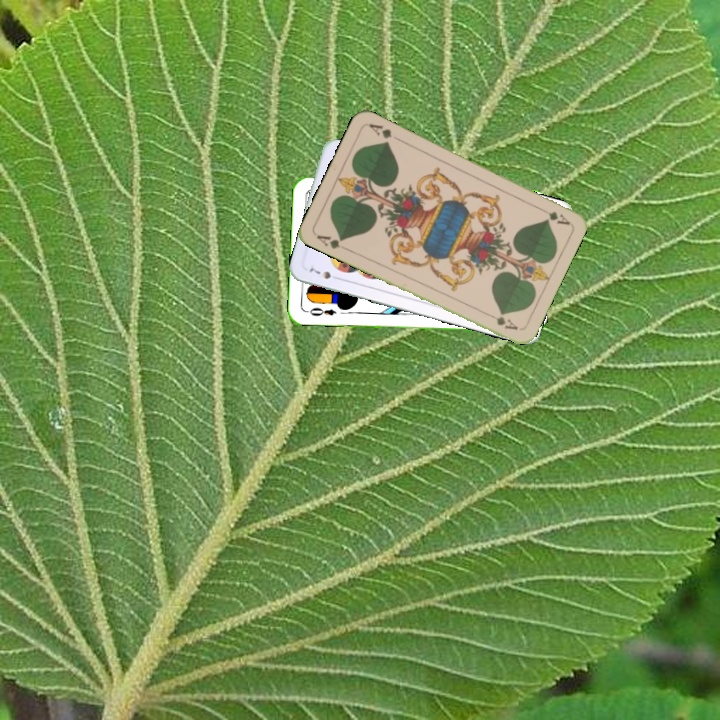EO: (302, 304, 339, 318)
GA: (534, 203, 572, 227), (312, 230, 350, 253)
S7: (305, 264, 343, 283)
